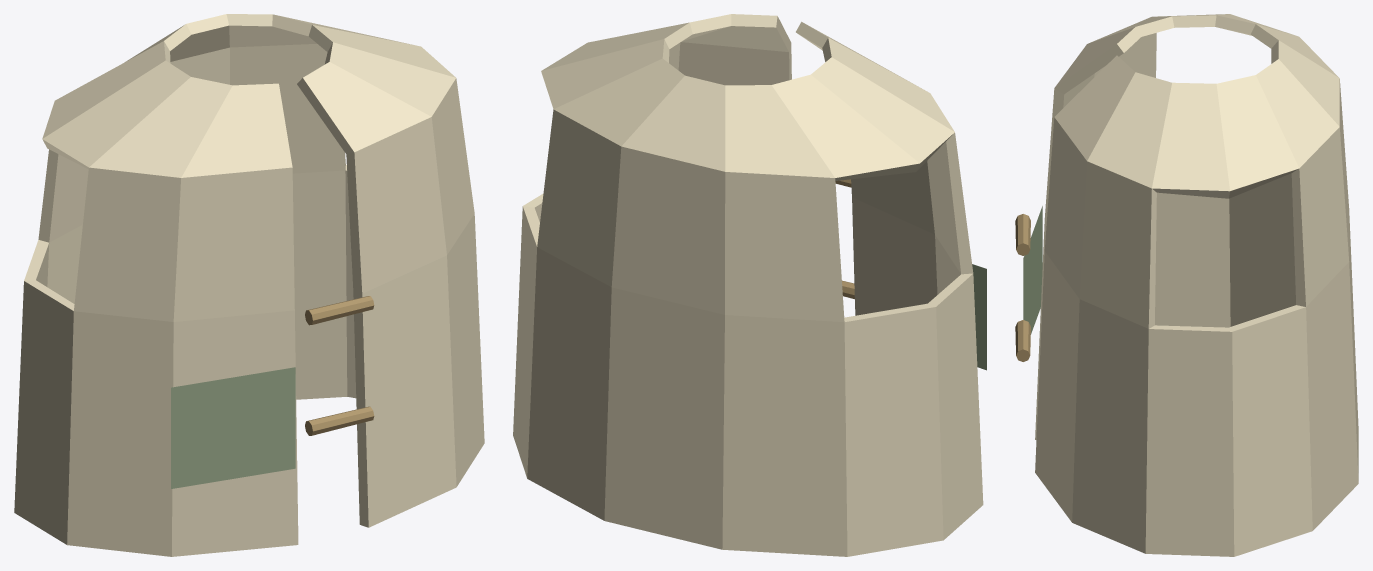
The picture shows the model from 3 angles, left to right: view 1: azimuth 30°, elevation 25°; view 2: azimuth 150°, elevation 25°; view 3: azimuth 270°, elevation 25°; orthographic projection. The views are drawn at different scales.
Parts seen in each view (by area): view 1: CE-008 Separate woven boatworker vest batched; view 2: CE-008 Separate woven boatworker vest batched; view 3: CE-008 Separate woven boatworker vest batched.
Part boxes in pixels (bbox=[...]): CE-008 Separate woven boatworker vest batched: bbox=[14, 14, 484, 556]; CE-008 Separate woven boatworker vest batched: bbox=[513, 14, 986, 556]; CE-008 Separate woven boatworker vest batched: bbox=[1015, 14, 1358, 556].
Bounding box in the file's own units: 0.4884 × 0.4605 × 0.3518.
